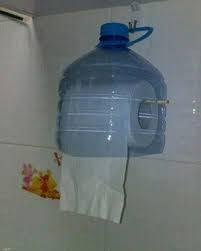Plastic bottle: (61, 19, 168, 148)
